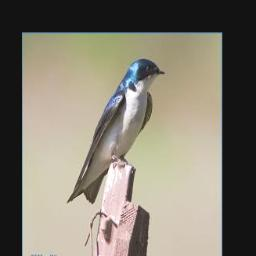Swallow: (65, 57, 166, 206)
